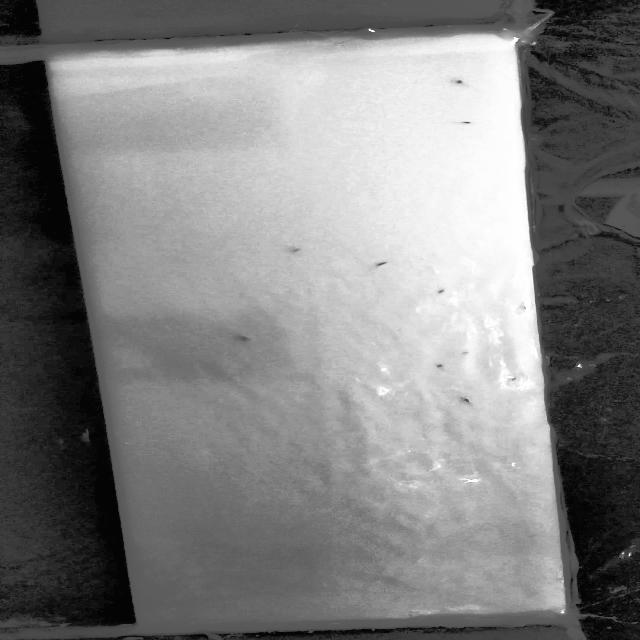shrimp: (450, 395, 481, 407), (370, 257, 395, 271), (456, 116, 479, 128), (458, 348, 482, 359), (432, 362, 454, 373), (233, 335, 253, 347), (500, 373, 517, 386), (450, 77, 468, 87), (287, 246, 305, 256), (435, 286, 449, 298)
